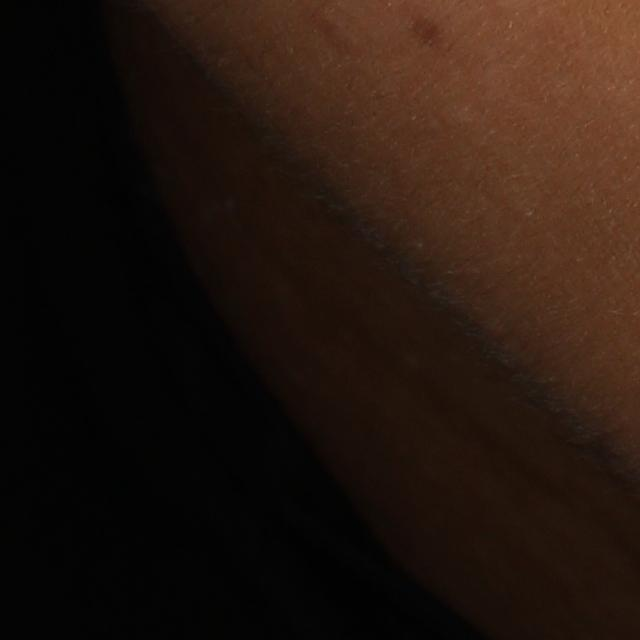nevus: (395, 3, 440, 50)
